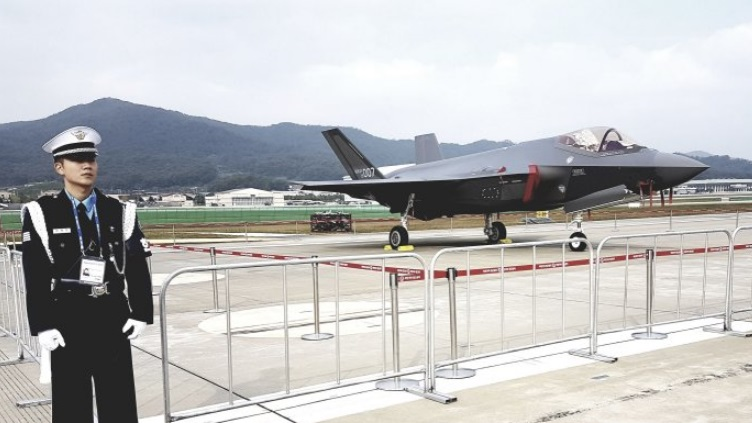F-35 Lightning: (272, 103, 720, 257)
